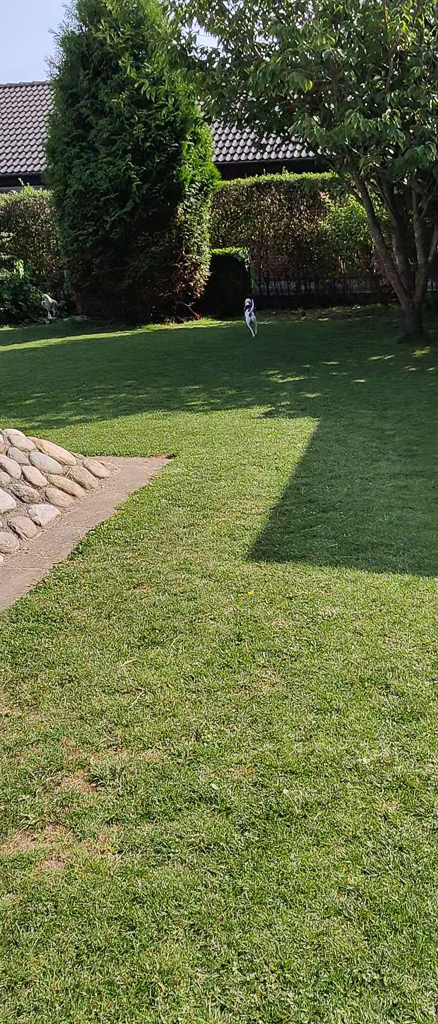Dog: (238, 291, 265, 343)
Eagle: (35, 289, 66, 327)
